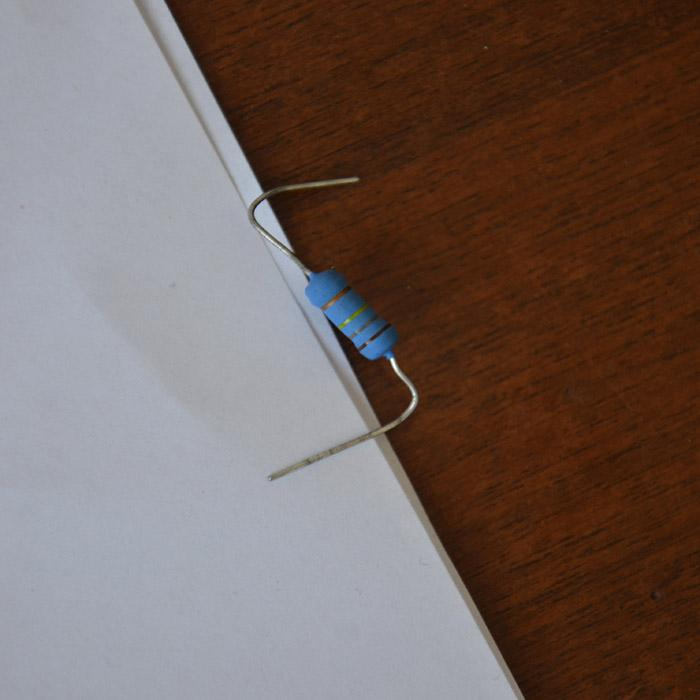resistor: (304, 266, 398, 363)
